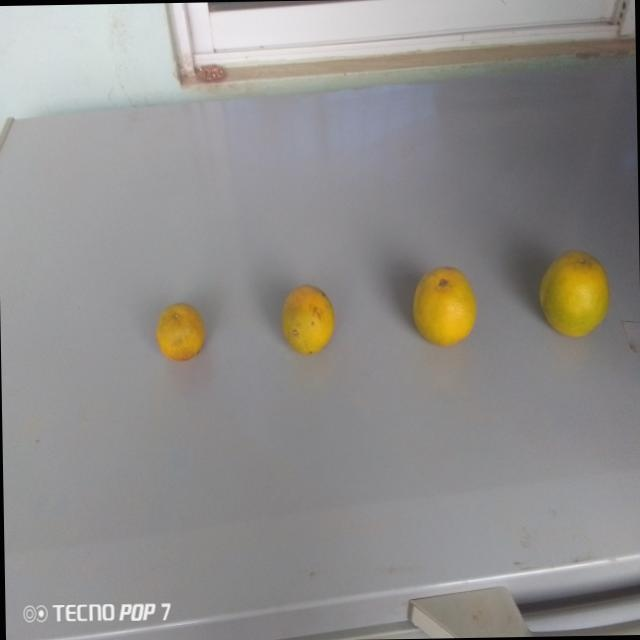agrume: (535, 243, 615, 345), (408, 259, 481, 350), (279, 282, 335, 356), (157, 296, 206, 374)
